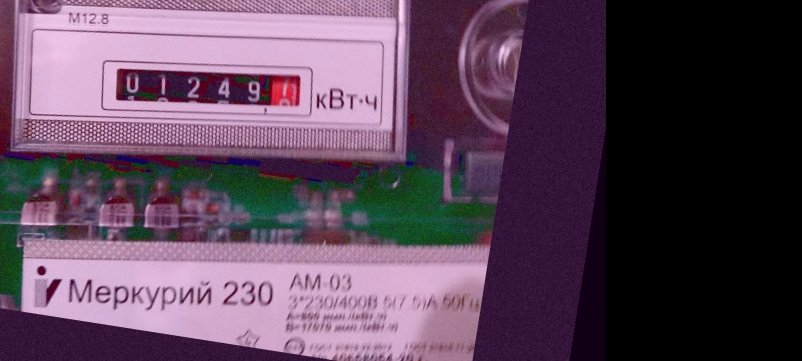0: (119, 66, 142, 94)
1: (151, 70, 170, 97)
2: (181, 72, 205, 101)
4: (213, 71, 235, 101)
7: (274, 73, 293, 99)
9: (242, 76, 264, 103)
screen: (88, 37, 330, 147)
